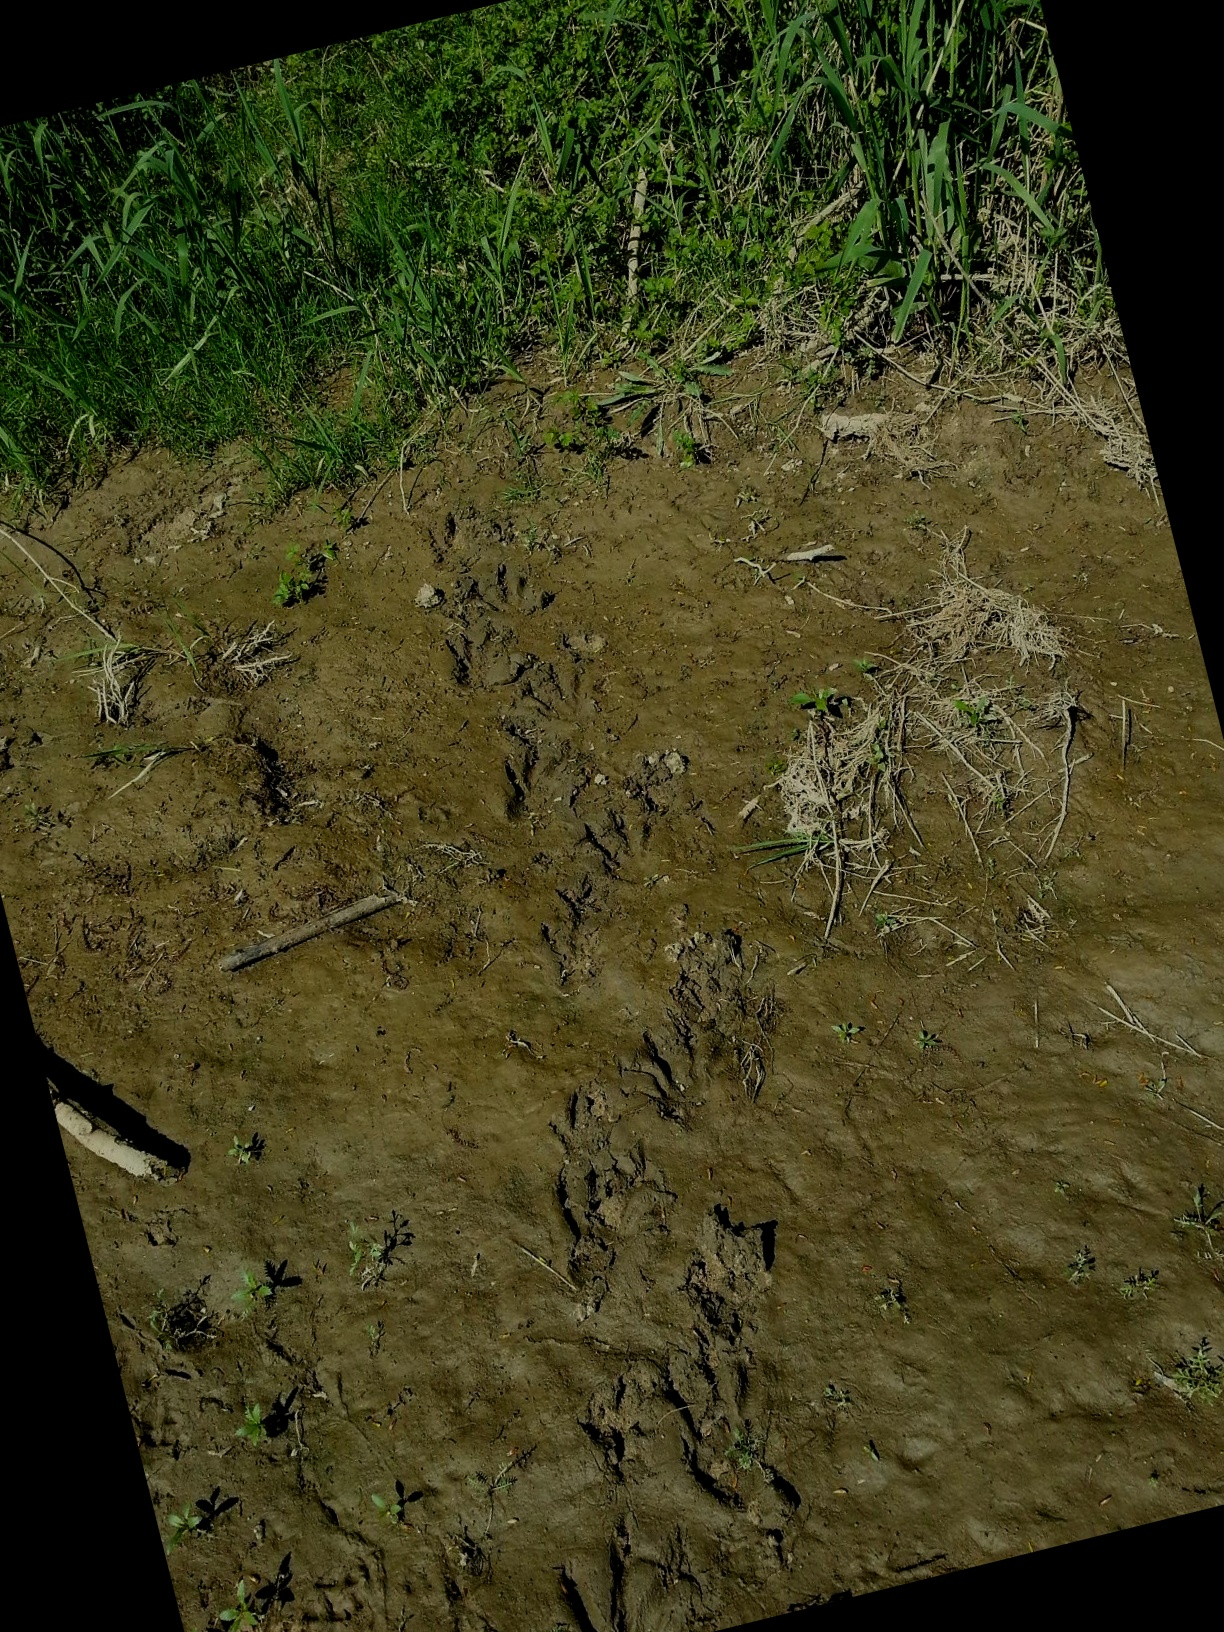beaver: (561, 1203, 864, 1560)
